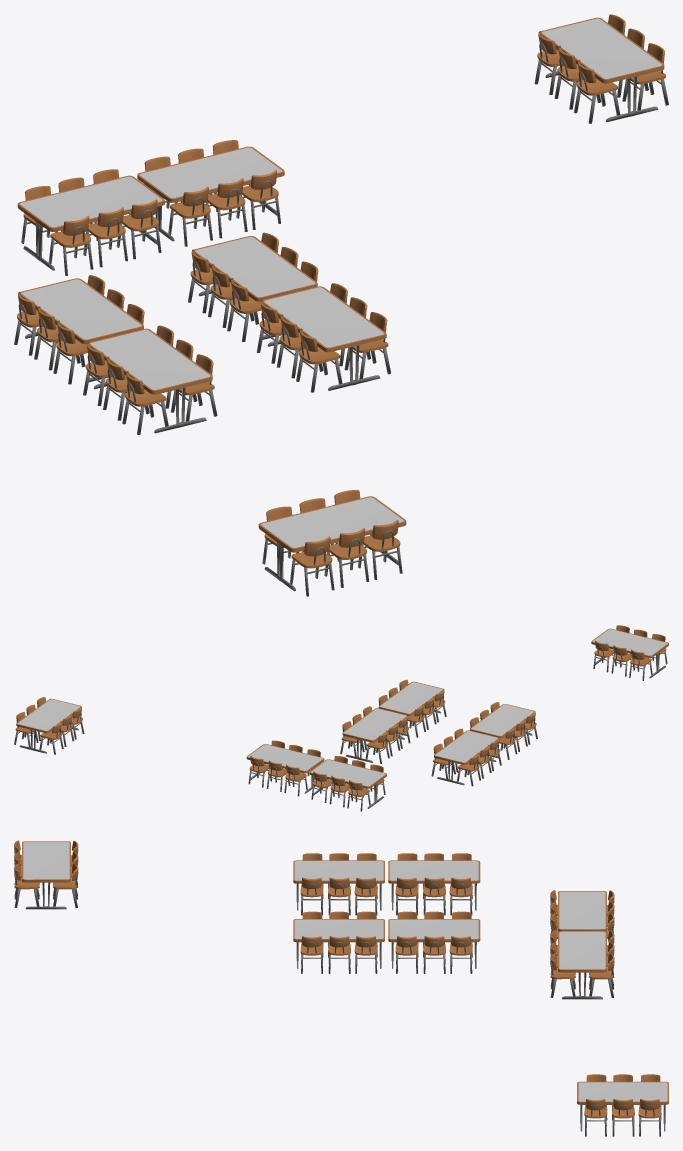
File: d-roomcomp-l-mensa-in.glb
The picture shows the model from 3 angles, top to bottom: view 1: azimuth 30°, elevation 25°; view 2: azimuth 150°, elevation 25°; view 3: azimuth 270°, elevation 25°; orthographic projection. The views are drawn at different scales.
Parts seen in each view (by area): view 1: beegTable.023, beegTable.024, beegTable.018, beegTable.019, beegTable.036, beegTable.026, beegTable.020, beegTable.038; view 2: beegTable.024, beegTable.023, beegTable.018, beegTable.020, beegTable.038, beegTable.026, beegTable.036, beegTable.019; view 3: beegTable.018, beegTable.020, beegTable.038, beegTable.019, beegTable.036, beegTable.023, beegTable.026, beegTable.024.
Boxes of the visible parts, bbox=[...] form: beegTable.023: bbox=[258, 490, 406, 596]; beegTable.024: bbox=[17, 169, 164, 275]; beegTable.018: bbox=[534, 14, 668, 123]; beegTable.019: bbox=[256, 283, 390, 392]; beegTable.036: bbox=[83, 325, 217, 434]; beegTable.026: bbox=[137, 140, 284, 246]; beegTable.020: bbox=[188, 232, 318, 341]; beegTable.038: bbox=[14, 275, 144, 384]; beegTable.024: bbox=[309, 756, 386, 811]; beegTable.023: bbox=[591, 625, 668, 680]; beegTable.018: bbox=[14, 697, 84, 754]; beegTable.020: bbox=[340, 706, 410, 763]; beegTable.038: bbox=[431, 728, 501, 786]; beegTable.026: bbox=[246, 740, 324, 796]; beegTable.036: bbox=[470, 702, 537, 759]; beegTable.019: bbox=[378, 679, 446, 737]; beegTable.018: bbox=[577, 1074, 668, 1136]; beegTable.020: bbox=[388, 911, 480, 973]; beegTable.038: bbox=[388, 853, 480, 915]; beegTable.019: bbox=[293, 911, 384, 973]; beegTable.036: bbox=[293, 853, 384, 915]; beegTable.023: bbox=[14, 840, 78, 909]; beegTable.026: bbox=[550, 930, 614, 999]; beegTable.024: bbox=[550, 890, 614, 942].
Bounding box in the file's own units: 16.58 × 1.07 × 17.36.
Materials: 1 (1 with a texture image).
